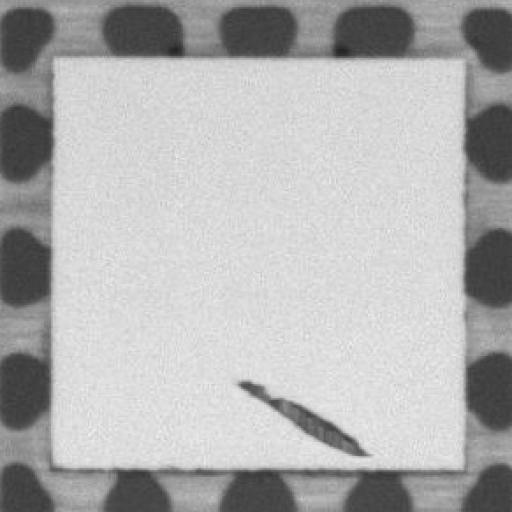DIE_INK: (229, 377, 366, 452)
